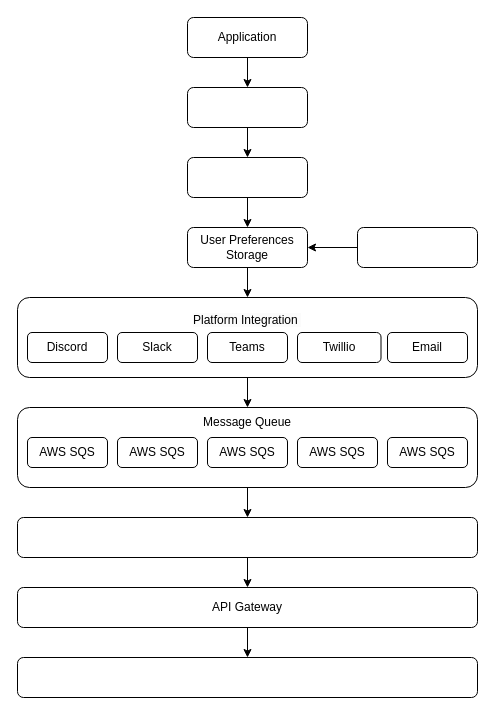
Image size: 495x715. Some labels were removed from this diagram. The shapes that lost their labels are listed below. From the top down, each one's box as (x1, y1, x2, y2) in pixels, then its label:
(186, 86, 308, 128): Event Listener
(186, 156, 308, 198): Notification Manager
(356, 226, 478, 268): Cache
(16, 516, 478, 558): Lambda Function
(16, 656, 478, 698): Monitoring and Logging
